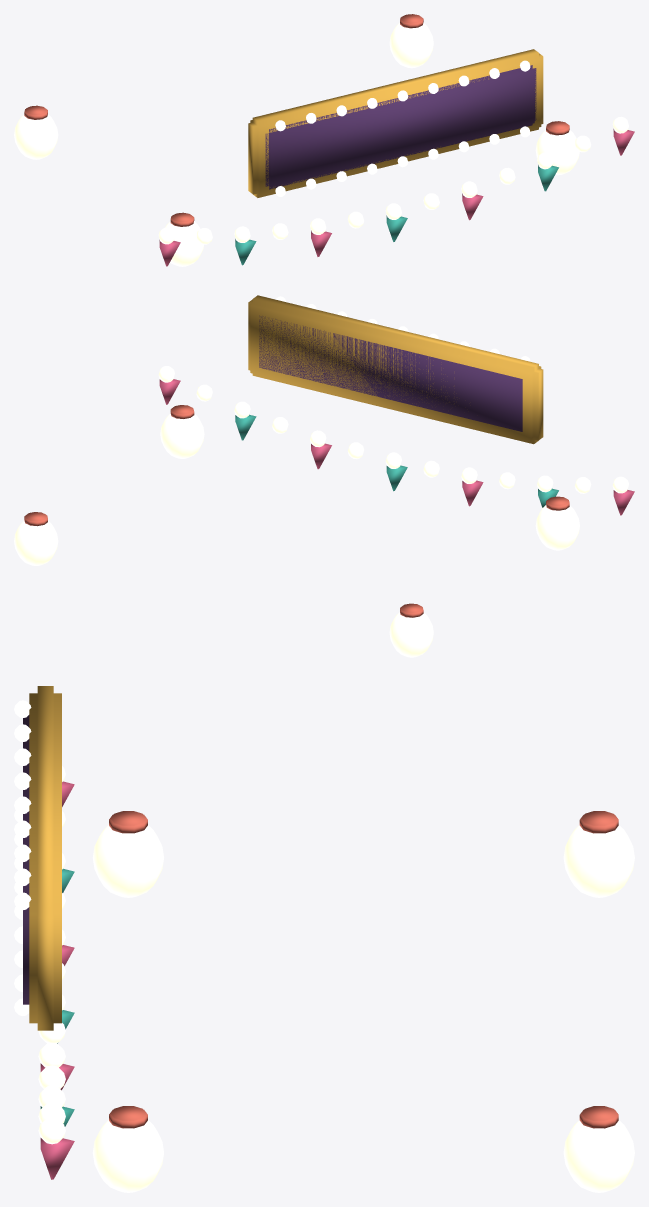
File: PavilionFestivalLights.fbx
3 views of the same model, one above another, from view 1: azimuth 30°, elevation 25°; view 2: azimuth 150°, elevation 25°; view 3: azimuth 270°, elevation 25° (orthographic). The views are drawn at different scales.
Visible parts, largest first — view 1: PavilionFestivalLights; view 2: PavilionFestivalLights; view 3: PavilionFestivalLights.
Boxes of the visible parts, left/top/right/bottom form: PavilionFestivalLights: left=14, top=14, right=634, bottom=266; PavilionFestivalLights: left=14, top=295, right=634, bottom=657; PavilionFestivalLights: left=14, top=686, right=634, bottom=1192.
Bounding box in the file's own units: 5.44 × 1.73 × 3.83.
